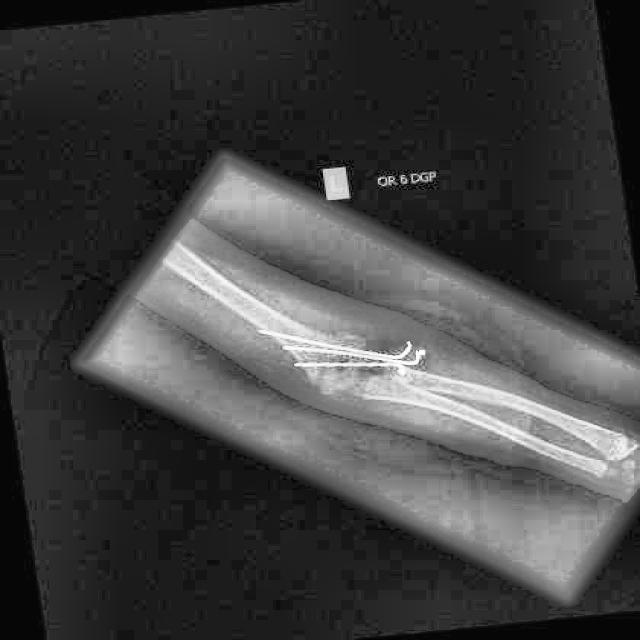elbow positive: (297, 358, 351, 411)
